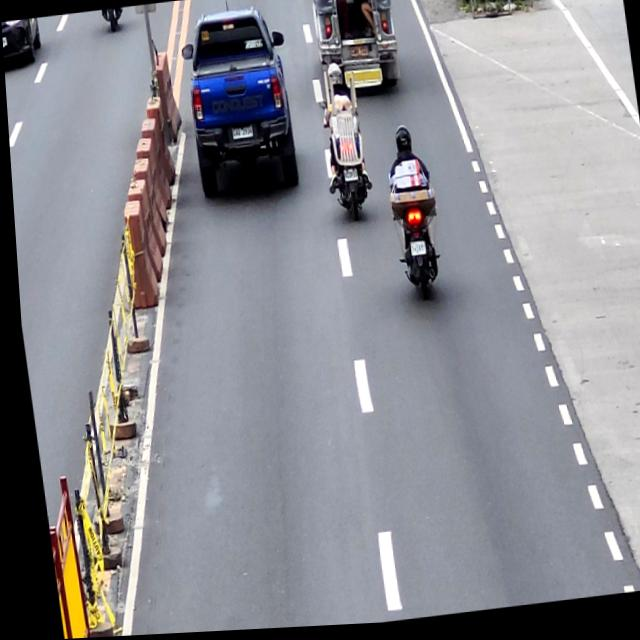Car: (175, 7, 301, 201)
Jeep: (308, 0, 403, 103)
License-Plate: (228, 127, 251, 141), (406, 244, 422, 261), (348, 48, 367, 62), (341, 173, 355, 185)
Motorcycle: (384, 170, 440, 306), (319, 96, 372, 227)
